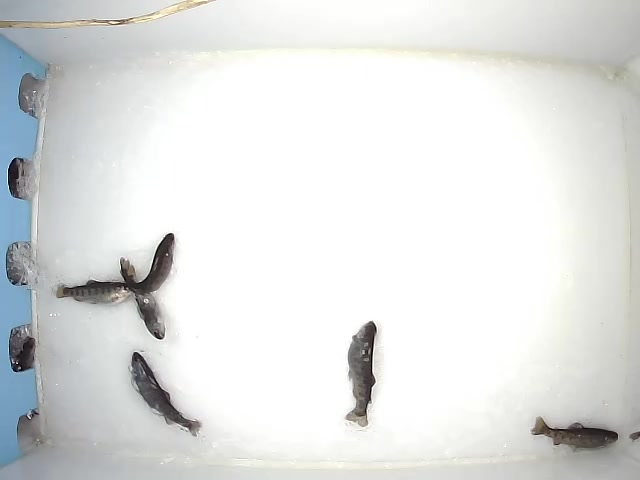fish: (127, 350, 203, 437), (342, 319, 377, 428), (120, 230, 176, 294), (530, 414, 619, 452), (122, 269, 165, 340), (53, 278, 131, 306)
